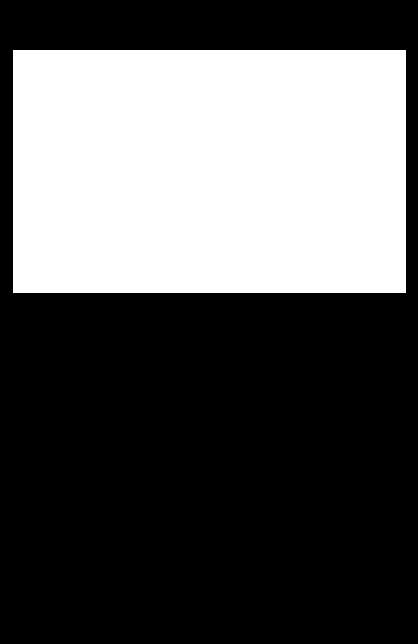table: (13, 50, 405, 292)
